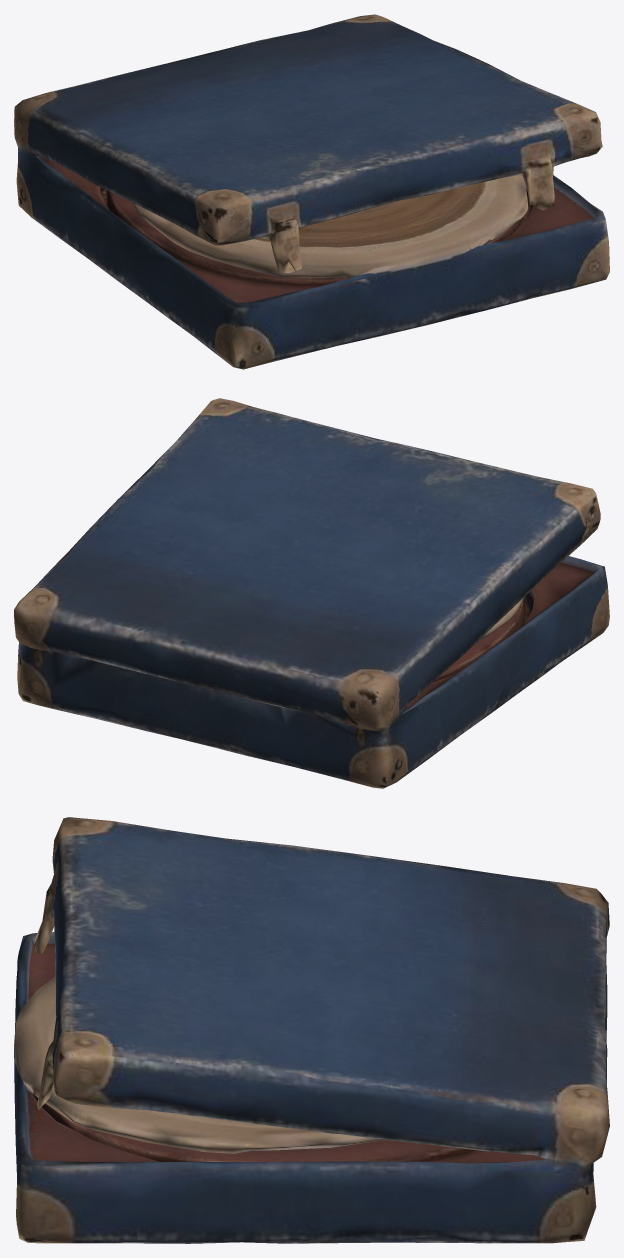
Rendered from reel-case.glb.
The picture shows the model from 3 angles, top to bottom: view 1: azimuth 30°, elevation 25°; view 2: azimuth 150°, elevation 25°; view 3: azimuth 270°, elevation 25°; orthographic projection. The views are drawn at different scales.
Visible parts, largest first — view 1: Mesh_0; view 2: Mesh_0; view 3: Mesh_0.
Part boxes in pixels (<box>): Mesh_0: <box>14,14,609,369</box>; Mesh_0: <box>14,398,609,788</box>; Mesh_0: <box>14,817,609,1243</box>.
Size of the model in its own units: 0.5143 by 0.2 by 0.5329.
Materials: 1 (1 with a texture image).
